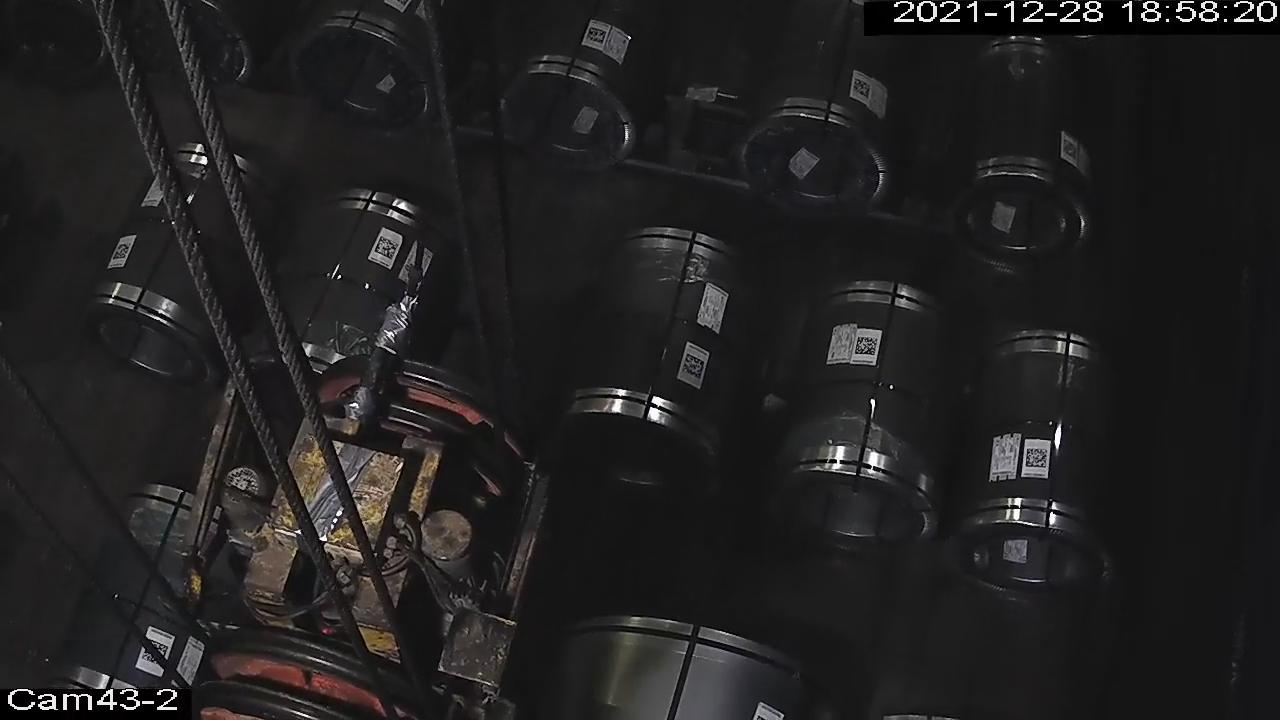data matrix: (373, 235, 402, 262), (681, 353, 708, 382), (1023, 447, 1051, 471), (851, 75, 874, 102), (854, 335, 881, 357), (584, 25, 609, 47), (1061, 139, 1081, 163), (111, 243, 135, 263)
